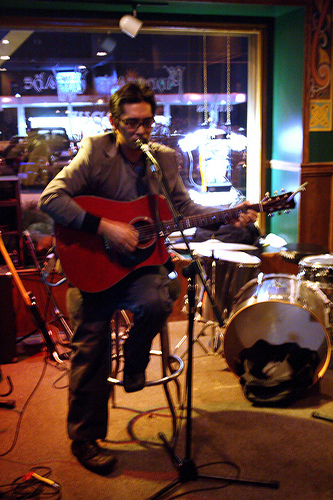guitar: (54, 185, 297, 299)
